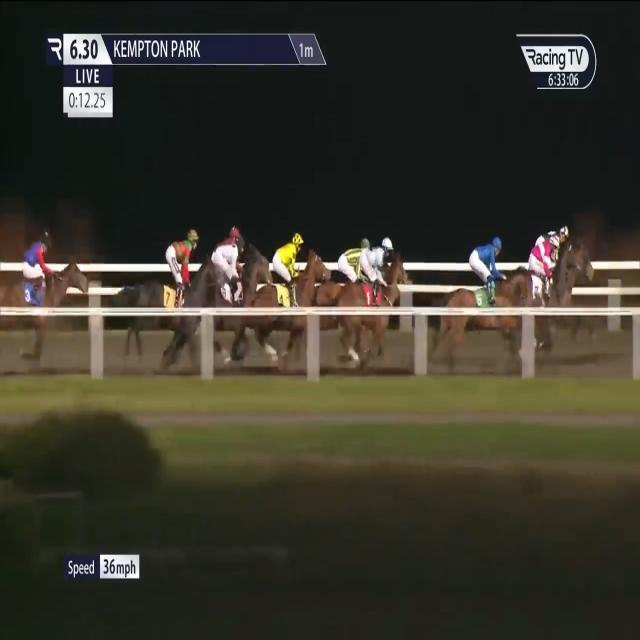horses-racing: (439, 234, 522, 370), (0, 223, 87, 343), (131, 226, 203, 355), (345, 229, 408, 361), (252, 221, 307, 366), (311, 230, 374, 356), (190, 234, 247, 361), (528, 217, 599, 307), (516, 236, 558, 314), (224, 216, 251, 267)
